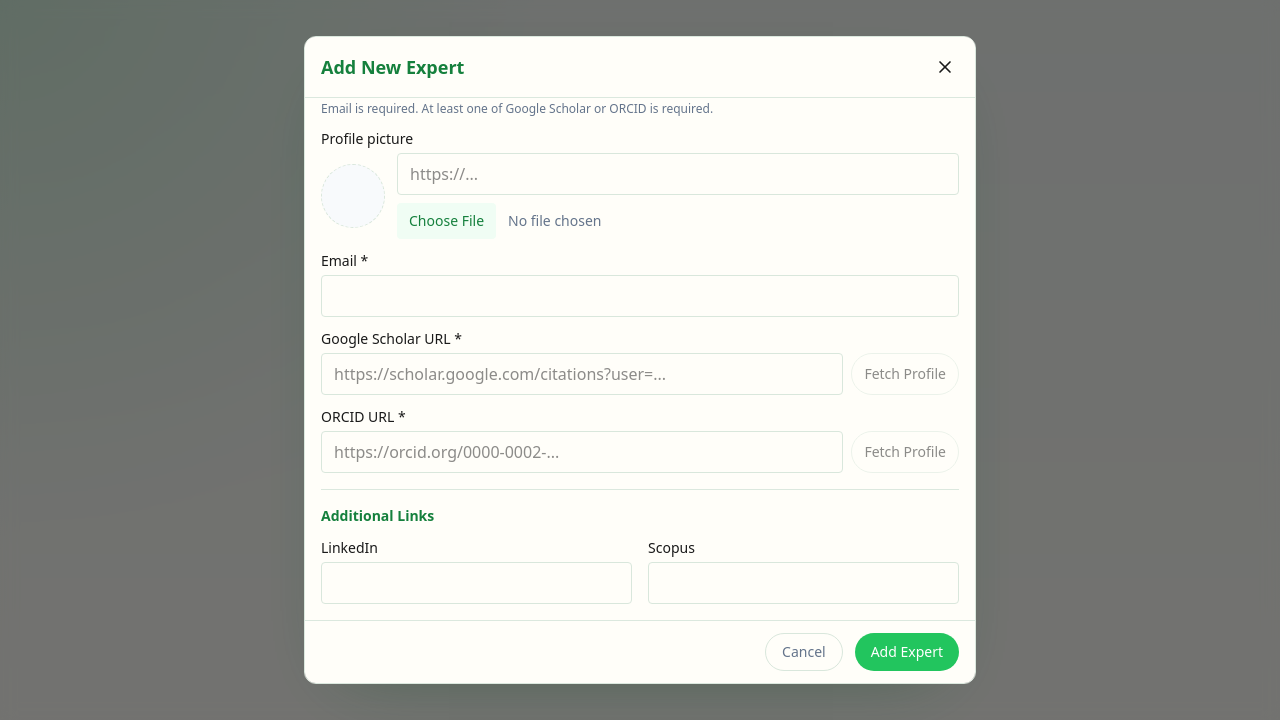
Test: AddExpertModal › fetches profile from ORCID and applies data
(page scrolled)
In the field labelled "ORCID URL *": (582, 452) [321,431,843,473], type "https://orcid.org/0000-0002-1234-5678"
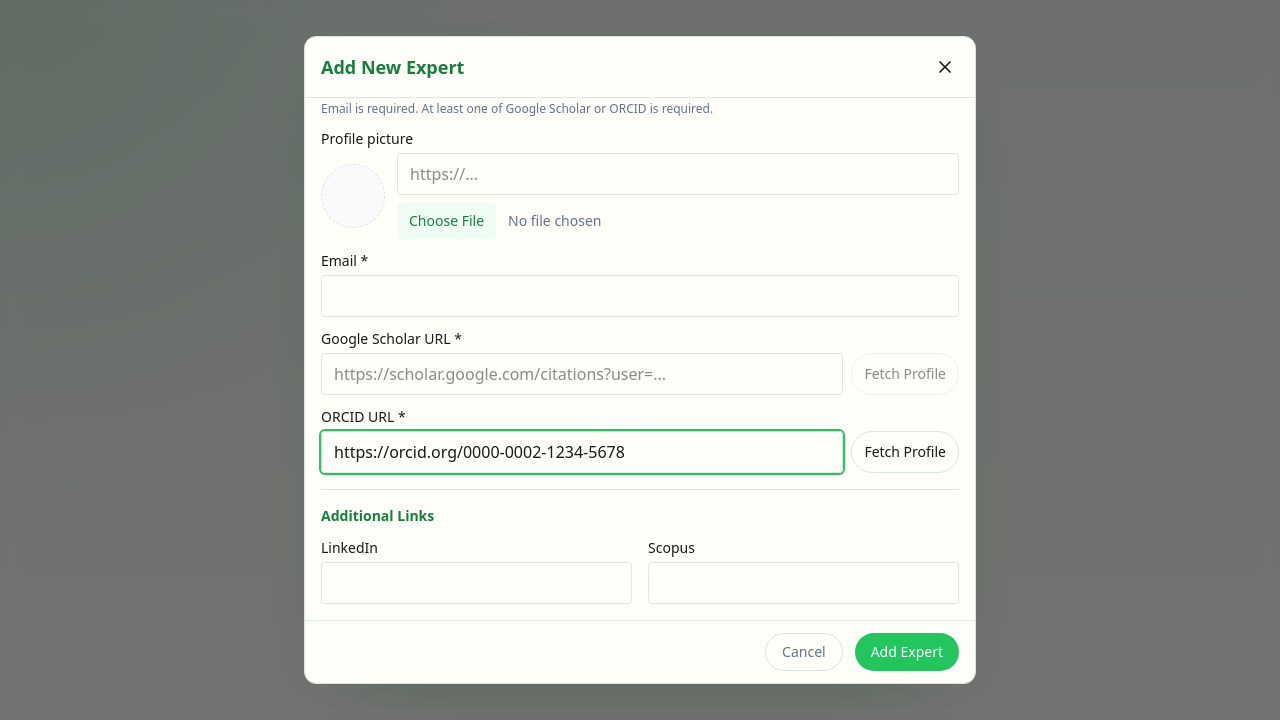
Click the 2nd button "Fetch Profile": (905, 452) [851,431,959,473]
(page scrolled)
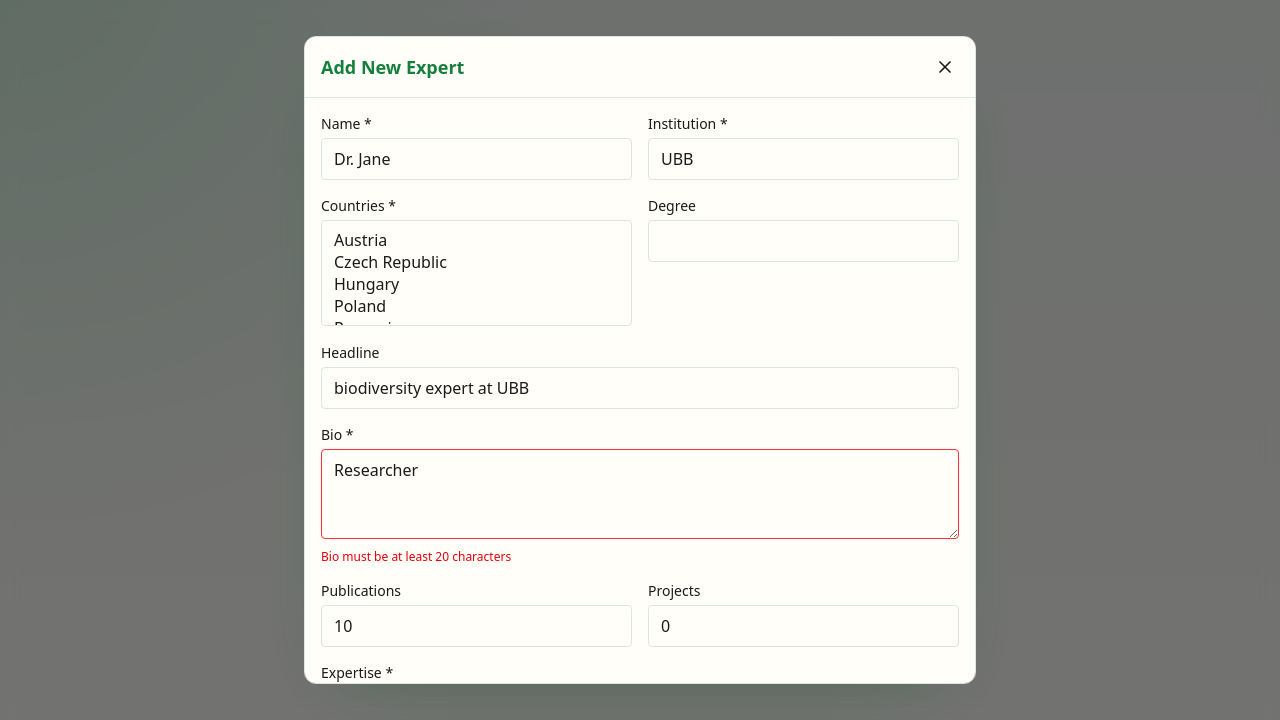
Expected: the field showing "Dr. Jane" is shown, [321,138,632,180]
